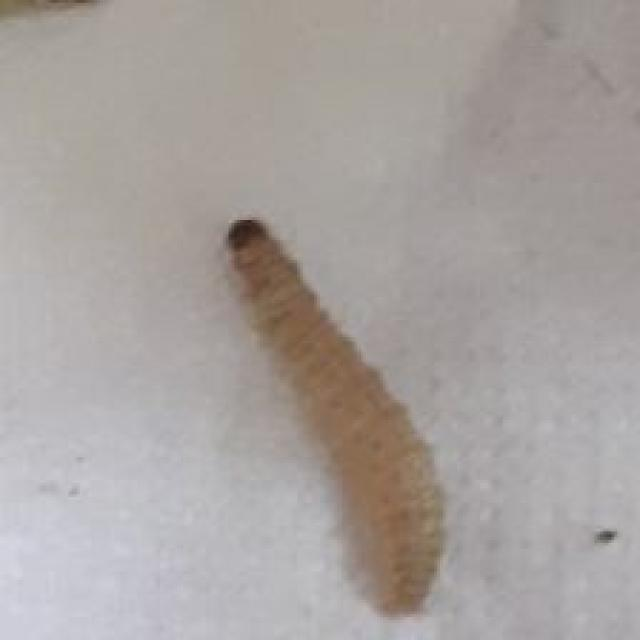white mucus: (201, 201, 471, 611)
